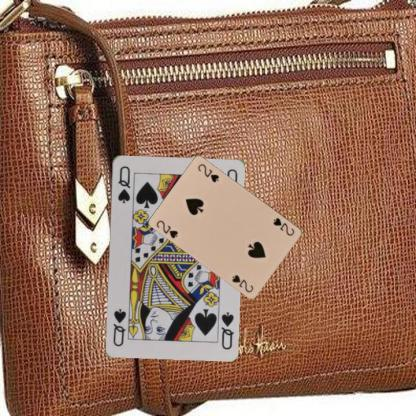2s: (270, 215, 296, 237), (154, 218, 180, 240)
Qs: (218, 309, 235, 351), (115, 163, 132, 204)
